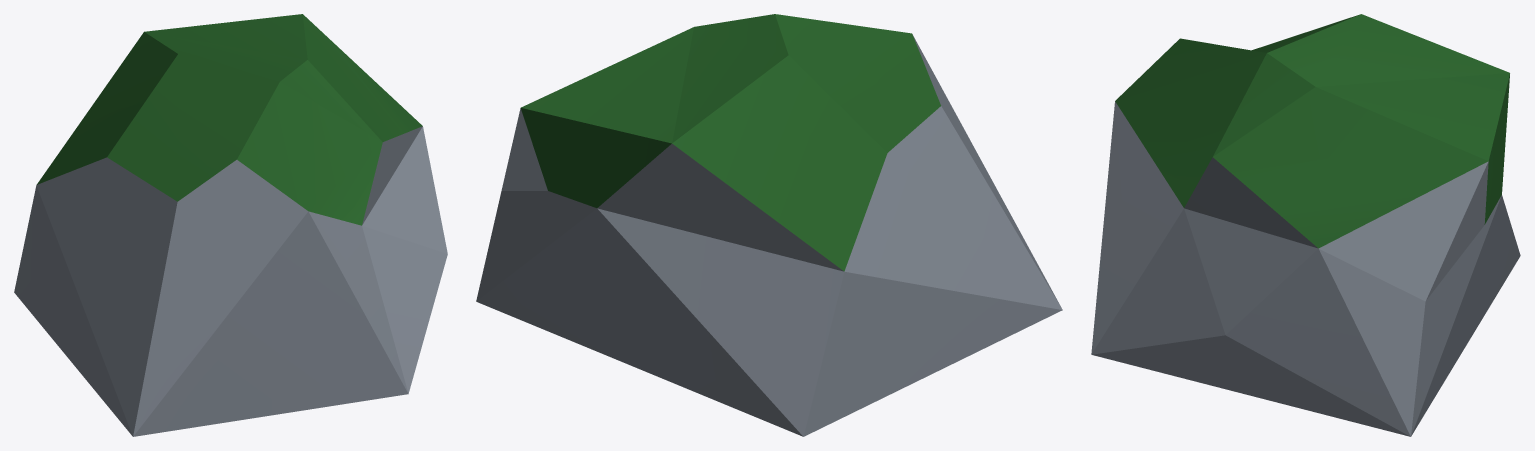
Rendered from stone_small_2.fbx.
3 renders of one model, left to right at view 1: azimuth 30°, elevation 25°; view 2: azimuth 150°, elevation 25°; view 3: azimuth 270°, elevation 25°, orthographic. The views are drawn at different scales.
Parts seen in each view (by area): view 1: stone_small_2; view 2: stone_small_2; view 3: stone_small_2.
Boxes of the visible parts, x1=… form: stone_small_2: x1=14, y1=14, x2=447, y2=436; stone_small_2: x1=476, y1=14, x2=1062, y2=436; stone_small_2: x1=1091, y1=14, x2=1520, y2=436.
Bounding box in the file's own units: 0.5036 × 0.3193 × 0.4318.
